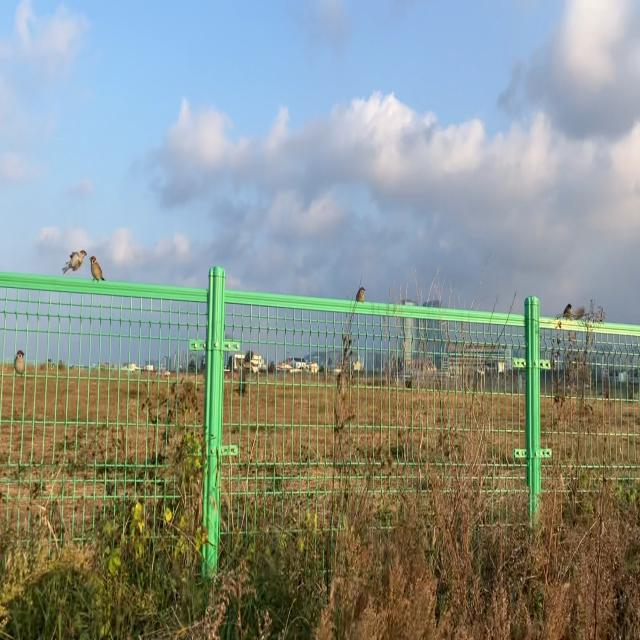bird: (62, 244, 88, 280), (90, 255, 106, 283), (14, 348, 27, 374), (355, 286, 367, 304), (564, 300, 574, 320)
